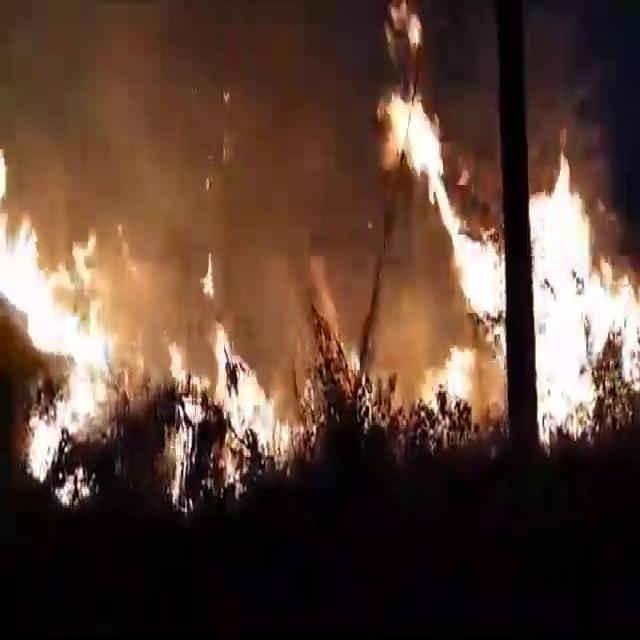Fire: (1, 138, 118, 490), (383, 62, 495, 372), (529, 144, 640, 430), (169, 314, 290, 510), (422, 345, 475, 416), (296, 380, 324, 460), (361, 372, 394, 439), (291, 382, 321, 448), (168, 434, 191, 511), (210, 450, 239, 508), (73, 457, 92, 512)
Smoke: (27, 0, 493, 423)
